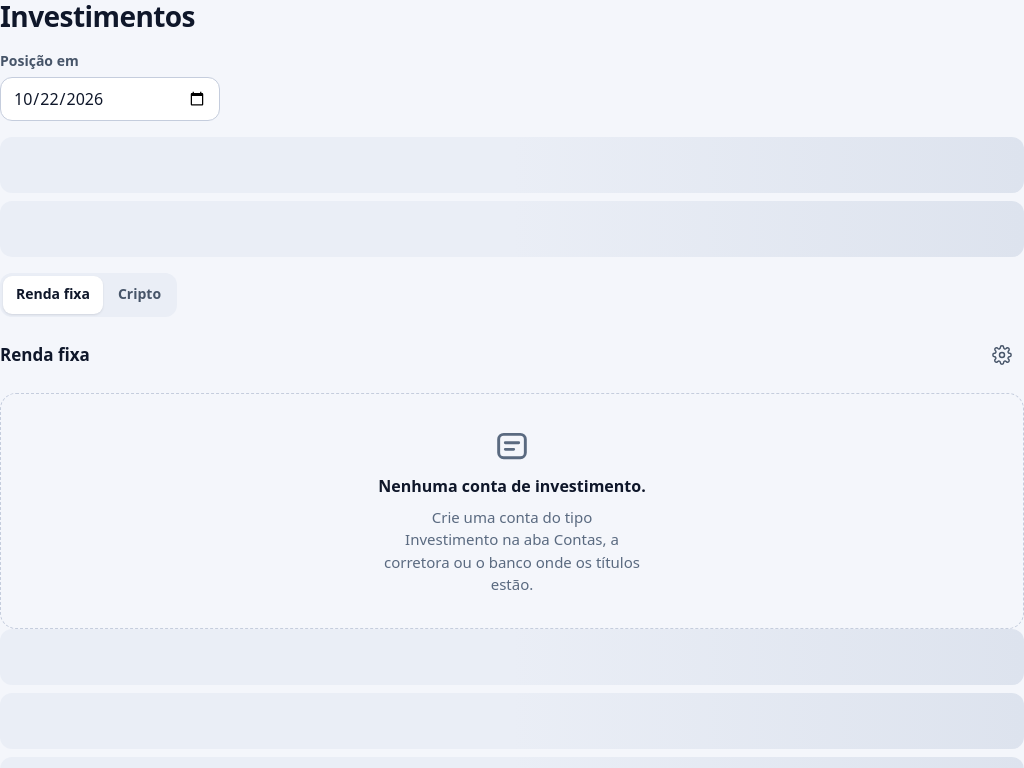
it: cofrinhos na renda fixa › a engrenagem abre com foco no primeiro interruptor e Esc fecha
The image size is (1024, 768).
Click the button named "Escolher cofrinhos da renda fixa".
click(1002, 355)  # box [980,333,1023,377]
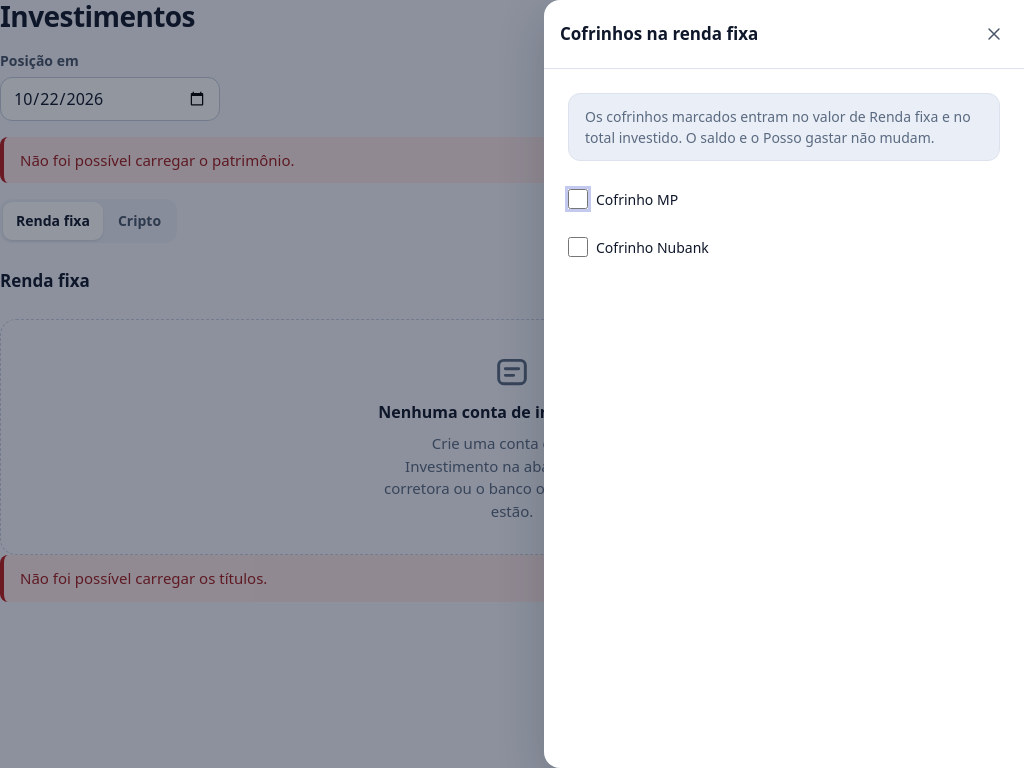
Press Escape in the dialog, box [544,0,1023,767]
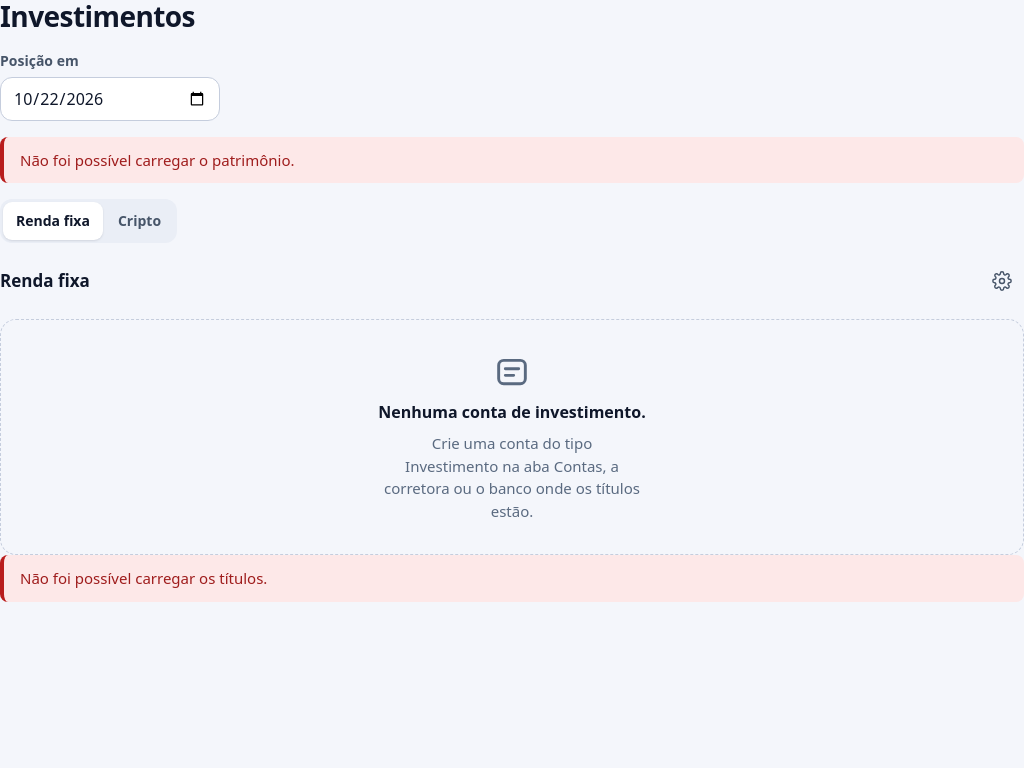
Result: the dialog is gone
